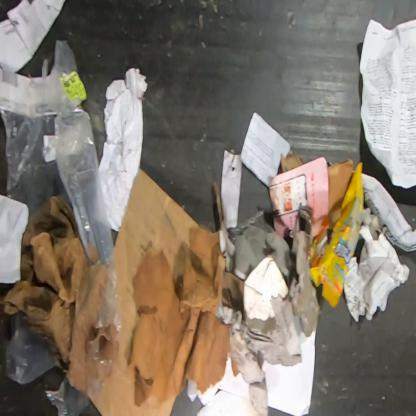cardboard: (91, 167, 202, 415), (4, 194, 119, 389), (128, 227, 244, 408), (327, 158, 354, 230), (280, 150, 304, 173)
soft_plastic: (0, 38, 123, 346), (306, 161, 365, 310), (44, 345, 115, 415), (5, 311, 57, 386), (228, 210, 265, 245)
